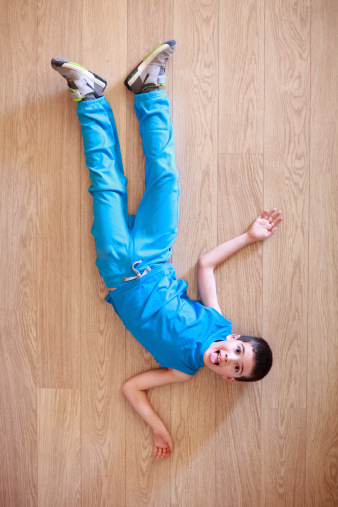deitado: (87, 11, 279, 485)
